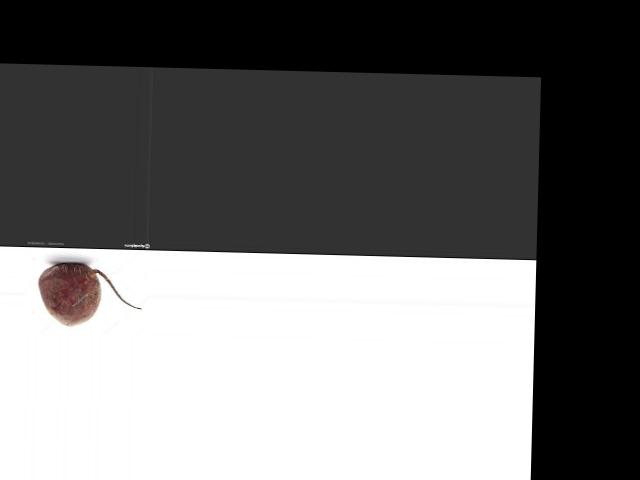beet: (36, 261, 142, 326)
